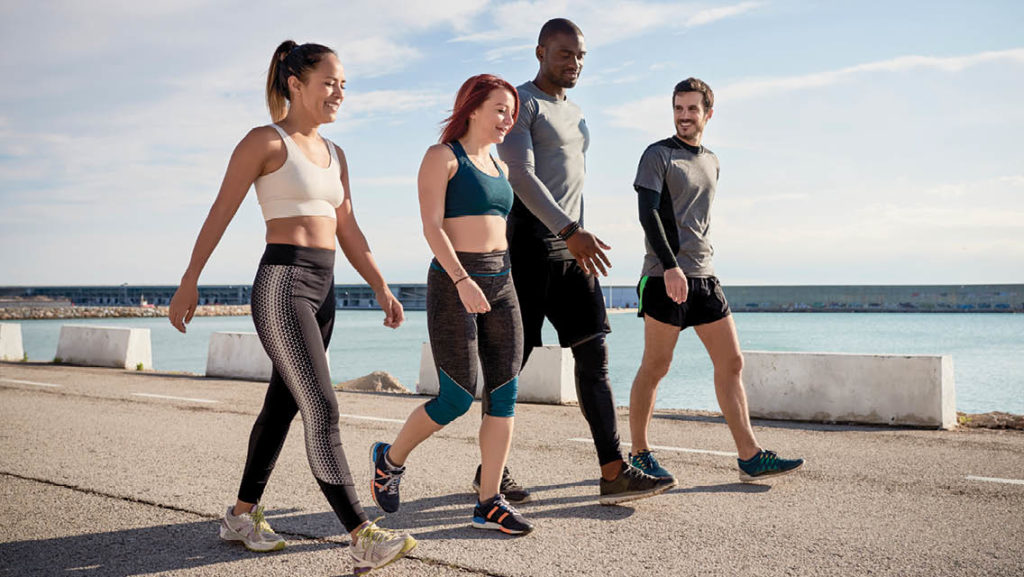person: (162, 35, 410, 577), (366, 68, 538, 536), (624, 72, 771, 493), (503, 10, 617, 513)
